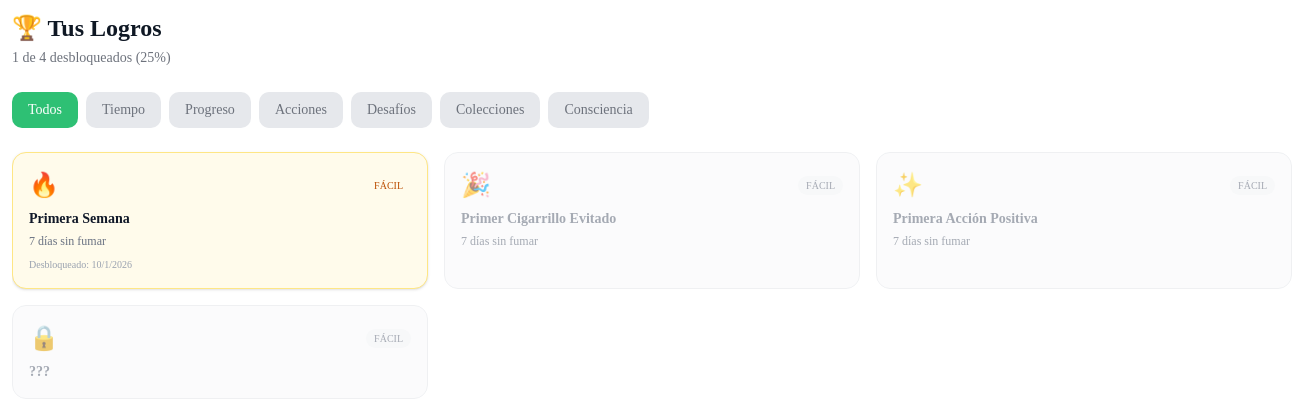
Test: AchievementsView › filter tabs switch categories
// Click on "Tiempo" tab
Click the tab "Tiempo".
click(124, 110)  # box 86,92 -> 161,128
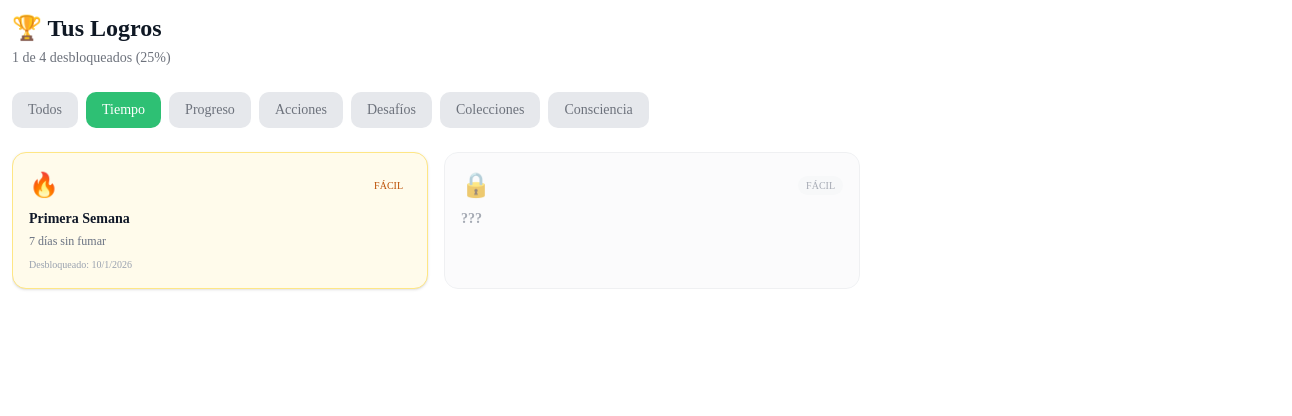
Expected: the heading "Primera Semana" is shown, 29,211 -> 130,226
Now the heading "Primer Cigarrillo Evitado" is gone
